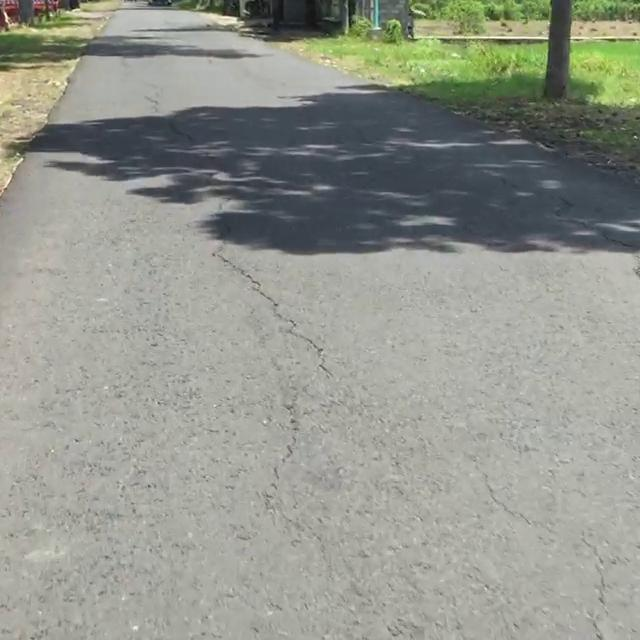retak_memanjang: (161, 206, 376, 453)
